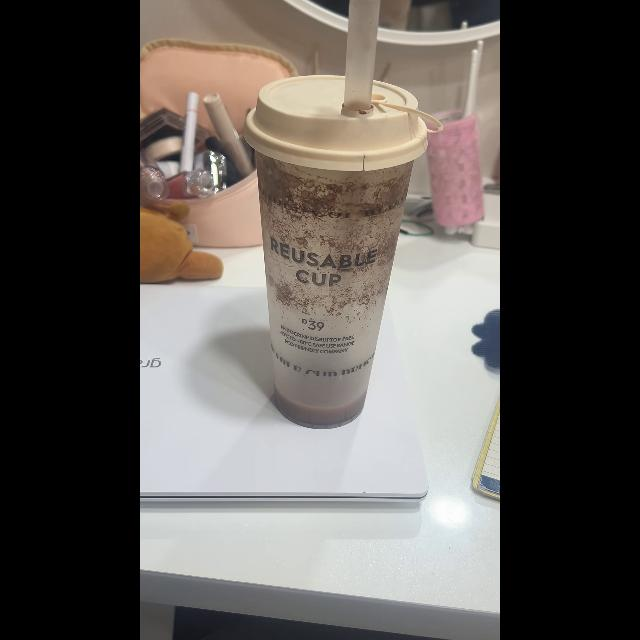dirty: (256, 153, 400, 425)
